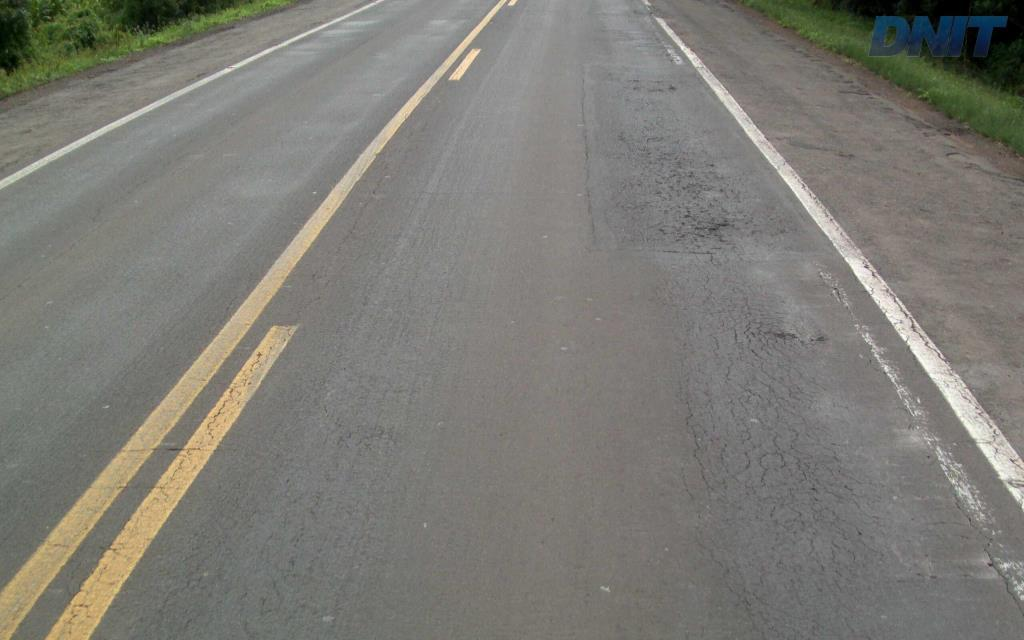crack: (715, 579, 769, 639), (683, 207, 734, 241)
